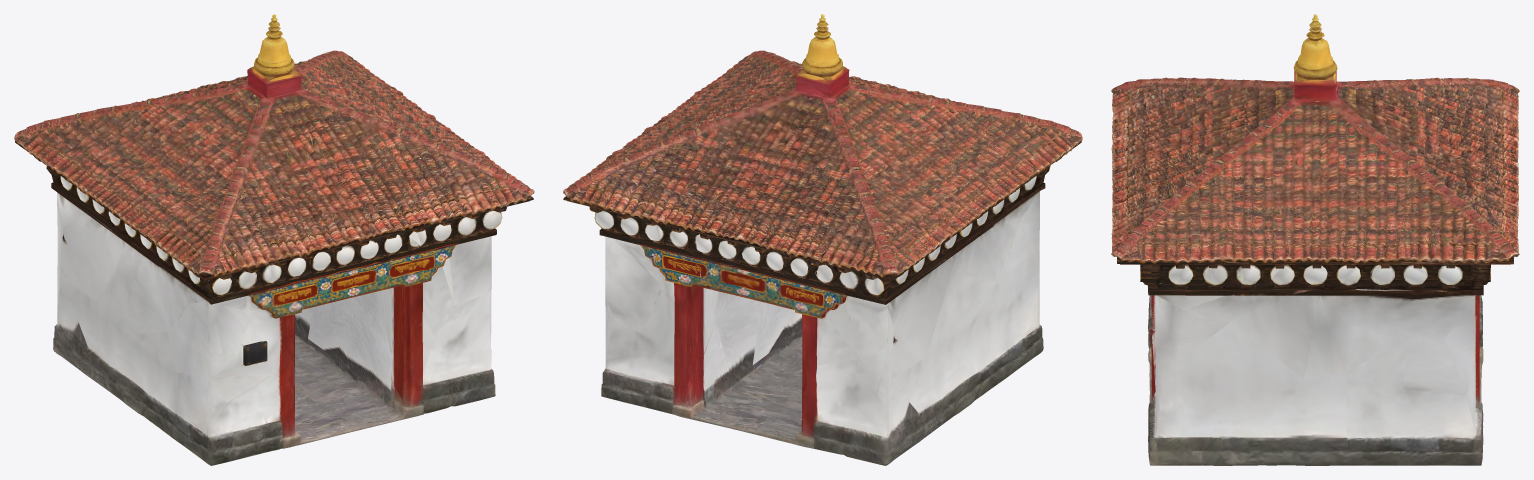
The model's file is gate.glb.
The picture shows the model from 3 angles, left to right: view 1: azimuth 30°, elevation 25°; view 2: azimuth 150°, elevation 25°; view 3: azimuth 270°, elevation 25°; orthographic projection. The views are drawn at different scales.
Parts seen in each view (by area): view 1: Mesh_0; view 2: Mesh_0; view 3: Mesh_0.
Part boxes in pixels (left/top/right/bottom): Mesh_0: left=14, top=14, right=534, bottom=465; Mesh_0: left=563, top=14, right=1082, bottom=465; Mesh_0: left=1111, top=14, right=1519, bottom=465.
Bounding box in the file's own units: 4.5 × 4.58 × 4.48.
Materials: 1 (1 with a texture image).
